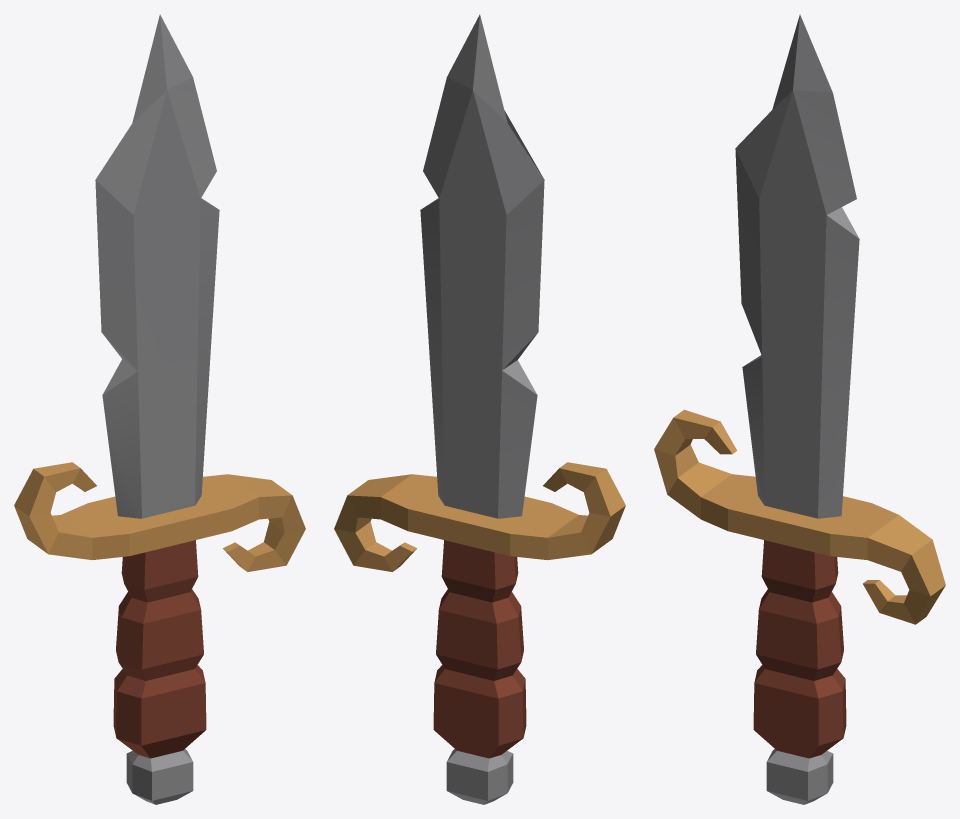
File: SM_Wep_Dagger_01.glb
3 renders of one model, left to right at view 1: azimuth 30°, elevation 25°; view 2: azimuth 150°, elevation 25°; view 3: azimuth 330°, elevation 25°, orthographic.
Parts seen in each view (by area): view 1: SM_Wep_Dagger_01; view 2: SM_Wep_Dagger_01; view 3: SM_Wep_Dagger_01.
Part boxes in pixels (x1=…): SM_Wep_Dagger_01: x1=14, y1=14, x2=305, y2=804; SM_Wep_Dagger_01: x1=334, y1=14, x2=625, y2=804; SM_Wep_Dagger_01: x1=654, y1=14, x2=945, y2=804.
Size of the model in its own units: 0.00189 by 0.00511 by 0.000496.
Materials: 1 (1 with a texture image).
